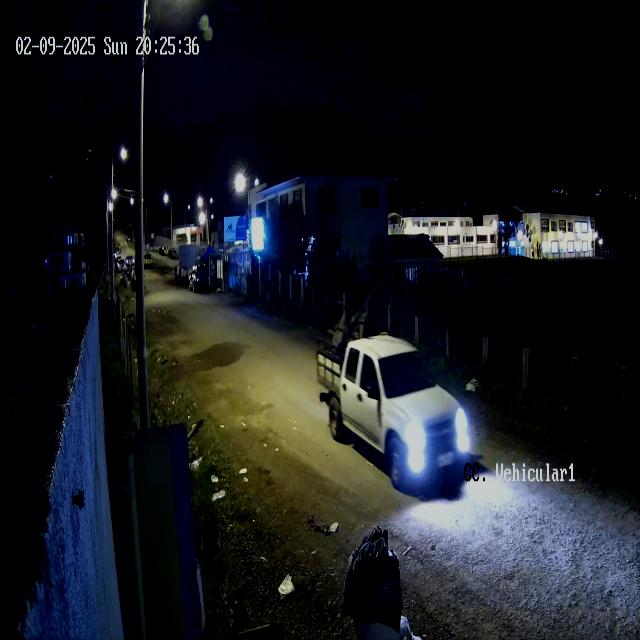CMT: (316, 329, 470, 490)
